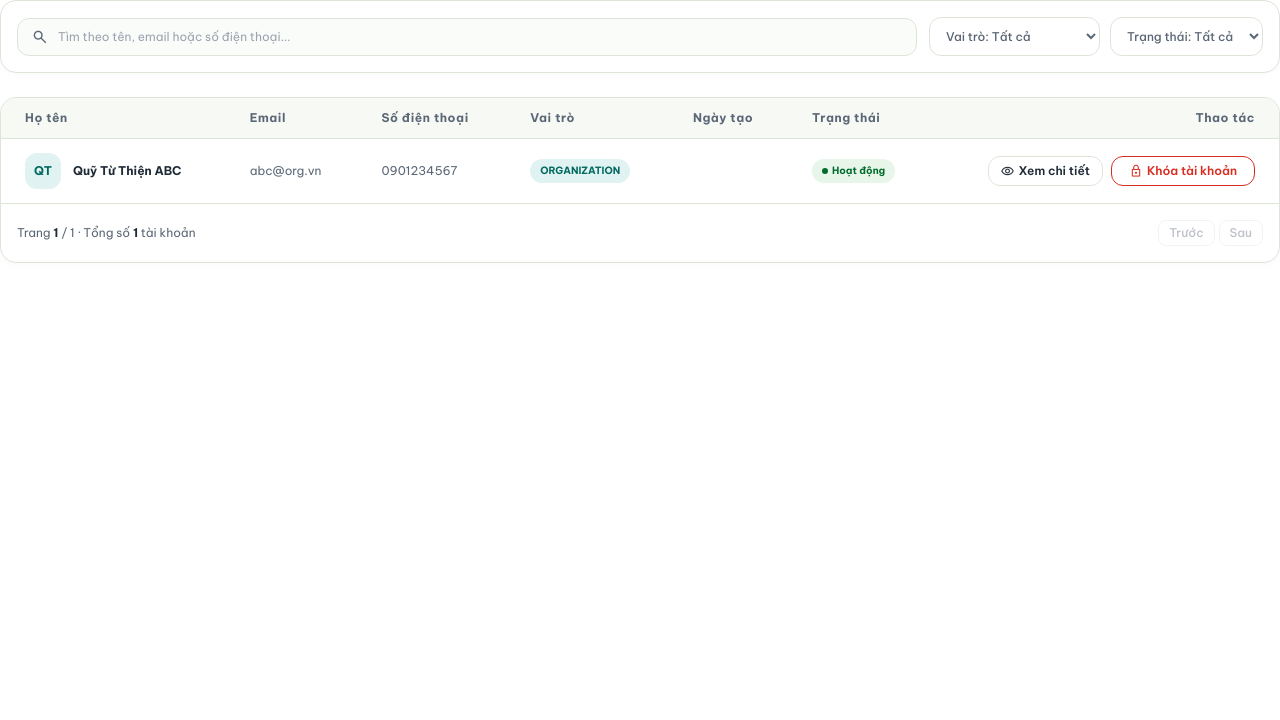
Scenario: Donation ON_HOLD & Org Lock Review Flows › shows pending report and donation counts in Admin organization lock modal
Click the text "Khóa tài khoản".
click(1192, 171)  # box [1147, 163, 1237, 179]
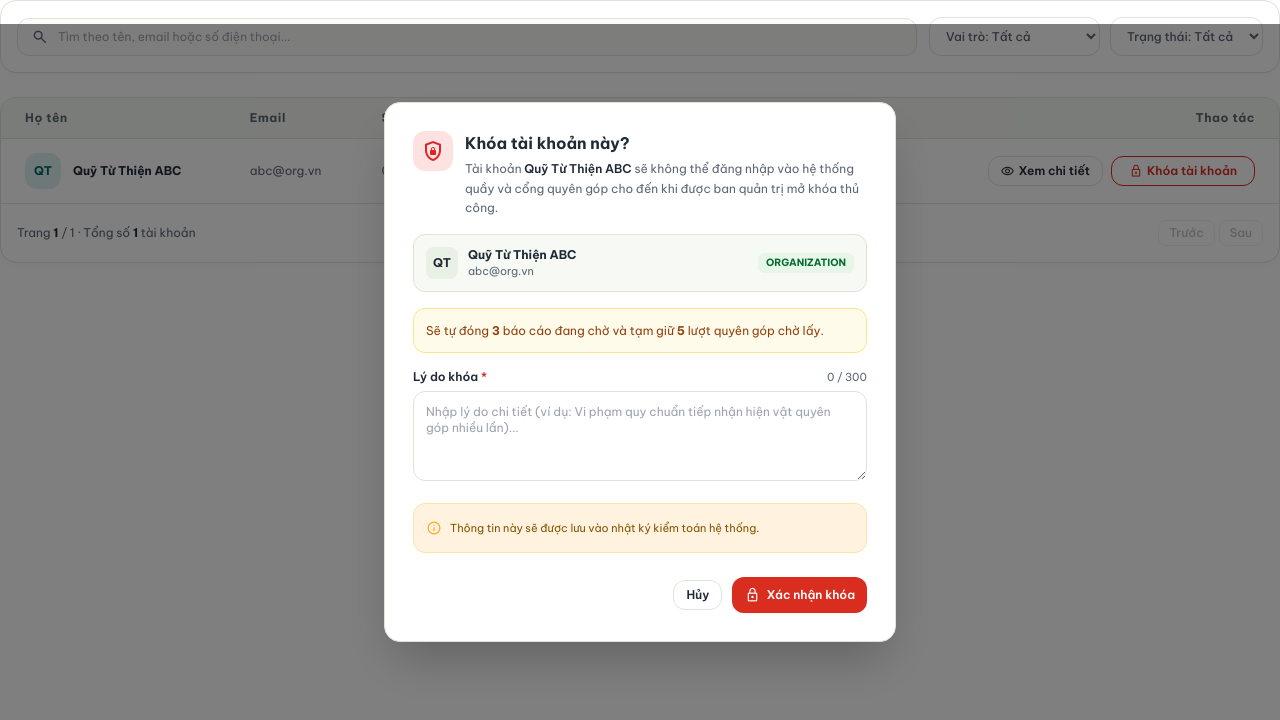
Expected: the text "Sẽ tự đóng" is shown, [426, 322, 492, 338]
Expected: the text "báo cáo đang chờ và tạm giữ" is shown, [500, 322, 674, 338]
